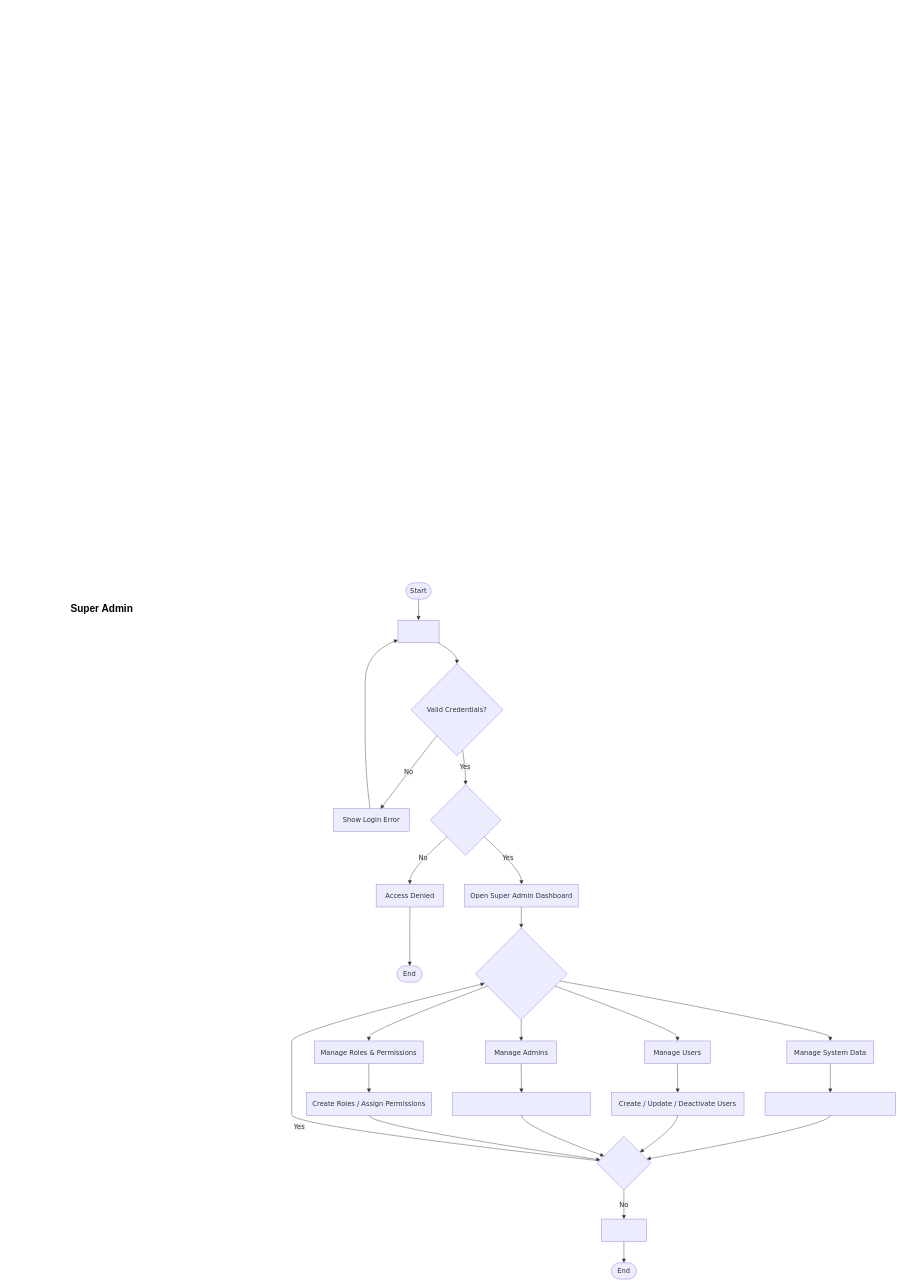
Some shapes in this 903 by 1286 pixel diagram are drawn without their labels. The shapes that lost their labels are listed below. From the top down, each one's centre as x and y in pixels, then its label:
the point at 418,631: Login
the point at 465,819: Super Admin?
the point at 521,974: Choose Operation
the point at 521,1103: Create / Update / Deactivate Admins
the point at 830,1103: Create / Update / Deactivate Data
the point at 624,1163: Continue?
the point at 624,1230: Logout
